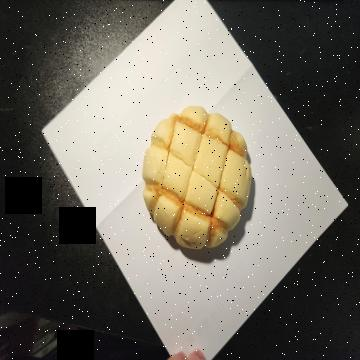melon_bread: (141, 106, 253, 250)
